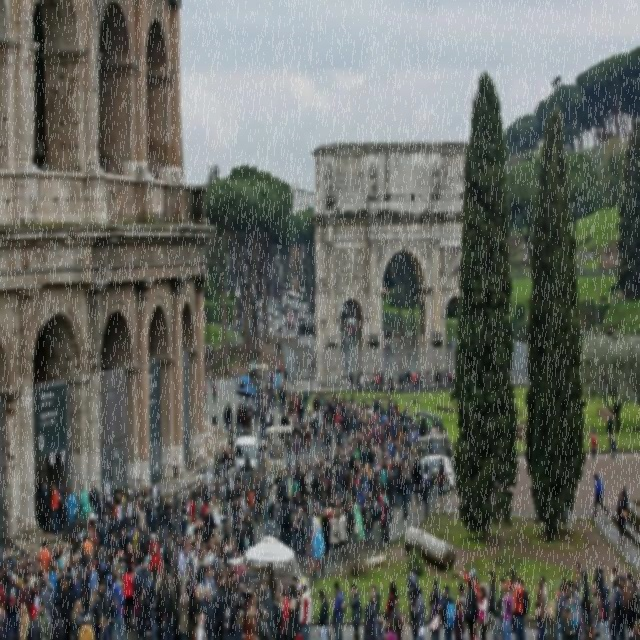pessoa: (312, 391, 451, 508), (240, 289, 316, 356), (339, 315, 412, 371), (238, 354, 282, 424), (95, 484, 155, 520), (52, 538, 110, 574), (460, 567, 480, 639), (106, 572, 126, 639), (160, 574, 178, 639), (329, 578, 348, 639), (198, 517, 223, 562), (410, 367, 455, 392), (512, 574, 528, 639), (611, 578, 628, 639), (132, 582, 150, 638), (122, 562, 136, 632), (196, 585, 214, 639), (428, 575, 443, 639), (212, 579, 228, 639), (606, 564, 620, 632), (8, 570, 22, 638), (348, 580, 364, 639), (39, 579, 54, 639), (590, 471, 608, 521), (132, 562, 146, 626), (362, 590, 380, 639), (613, 572, 626, 639), (316, 585, 332, 639), (76, 481, 92, 535), (475, 583, 490, 639), (299, 583, 314, 639), (176, 582, 191, 638), (441, 584, 456, 639), (286, 584, 301, 639), (295, 504, 308, 566), (270, 589, 286, 639), (516, 578, 529, 639), (371, 484, 383, 550), (590, 582, 604, 638), (184, 539, 200, 588), (580, 568, 591, 639), (571, 580, 584, 639), (614, 488, 628, 542), (592, 558, 607, 608), (466, 577, 478, 639), (352, 500, 365, 557), (406, 564, 418, 625), (555, 582, 568, 638), (260, 576, 274, 628), (534, 579, 546, 639), (230, 548, 248, 588), (48, 478, 60, 538), (320, 506, 332, 566), (331, 584, 344, 639), (136, 526, 151, 573), (486, 569, 497, 633), (16, 576, 32, 620), (236, 582, 249, 636), (34, 600, 52, 639), (323, 155, 337, 205), (411, 584, 426, 630), (223, 593, 238, 639), (337, 504, 348, 566), (148, 570, 158, 638), (628, 576, 640, 632), (54, 478, 66, 534), (282, 495, 294, 551), (384, 468, 396, 524), (500, 584, 512, 639), (90, 584, 102, 639), (412, 454, 424, 508), (366, 162, 381, 204), (280, 586, 292, 638), (176, 570, 186, 632), (39, 478, 50, 534), (361, 498, 372, 554), (572, 559, 586, 603), (420, 471, 433, 518), (185, 578, 195, 639), (434, 454, 446, 504), (330, 507, 340, 566), (560, 603, 576, 639), (50, 603, 66, 639), (218, 507, 231, 551), (66, 484, 79, 528), (381, 491, 391, 548), (235, 514, 249, 554), (290, 504, 300, 560), (99, 576, 111, 622), (602, 584, 612, 639), (170, 488, 181, 538), (18, 600, 32, 639), (458, 582, 468, 636), (170, 538, 179, 598), (76, 611, 95, 639), (177, 540, 189, 584), (162, 532, 174, 576), (297, 491, 310, 531), (390, 599, 403, 639), (286, 384, 302, 416), (590, 582, 602, 624), (192, 586, 204, 628), (210, 480, 222, 522), (245, 602, 259, 638), (172, 572, 182, 622), (88, 559, 98, 609), (256, 470, 266, 520), (432, 155, 442, 205), (584, 598, 596, 639), (428, 590, 438, 639), (309, 500, 322, 537), (454, 596, 466, 636), (38, 538, 52, 572), (200, 563, 213, 599), (203, 505, 216, 541), (562, 593, 577, 624), (304, 494, 314, 540), (284, 431, 294, 476), (345, 501, 355, 546), (372, 611, 388, 639), (232, 606, 246, 638), (156, 494, 166, 538), (284, 468, 294, 512), (48, 563, 58, 607), (258, 608, 272, 639), (82, 562, 91, 610), (244, 511, 256, 547), (604, 412, 614, 455), (400, 468, 408, 521), (262, 495, 272, 537), (279, 468, 289, 510), (300, 501, 310, 543), (310, 410, 320, 452), (220, 444, 231, 482), (546, 598, 556, 639), (540, 573, 550, 614), (324, 418, 334, 459), (252, 475, 260, 525), (304, 462, 314, 502), (2, 546, 16, 574), (117, 527, 130, 557), (554, 576, 570, 600), (384, 615, 400, 639), (150, 544, 162, 576), (146, 504, 158, 536), (234, 476, 244, 514), (247, 484, 256, 526), (71, 569, 82, 603), (227, 570, 250, 586), (196, 481, 212, 504), (197, 611, 210, 639), (192, 516, 205, 544), (82, 530, 95, 558), (28, 566, 42, 592), (496, 574, 506, 610), (388, 580, 398, 616), (370, 583, 380, 619), (178, 507, 190, 537), (88, 517, 100, 547), (0, 602, 10, 638), (278, 497, 286, 541), (124, 542, 134, 577), (298, 467, 308, 502), (589, 427, 599, 462), (216, 554, 228, 583), (167, 502, 176, 540), (224, 579, 235, 610), (212, 478, 222, 512), (78, 586, 88, 620), (376, 489, 384, 531), (399, 609, 410, 639), (24, 621, 42, 639), (210, 566, 217, 612), (509, 566, 519, 598), (111, 548, 121, 580), (288, 574, 300, 600), (22, 556, 34, 582), (109, 530, 120, 558), (89, 481, 100, 509), (37, 566, 48, 594), (187, 513, 196, 547), (276, 468, 284, 506), (194, 488, 204, 518), (130, 524, 140, 554), (620, 482, 630, 512), (304, 422, 312, 459), (0, 548, 6, 597), (190, 490, 198, 526), (148, 530, 160, 554), (98, 615, 110, 639), (318, 422, 326, 458), (246, 588, 259, 610), (183, 562, 193, 590), (136, 502, 146, 530), (30, 579, 40, 607), (0, 573, 7, 613), (294, 434, 302, 469), (306, 414, 314, 449), (0, 557, 11, 582), (206, 564, 213, 603), (160, 501, 167, 540), (228, 444, 236, 478), (296, 398, 304, 432), (118, 508, 129, 532), (214, 497, 223, 526), (207, 492, 217, 518), (412, 622, 428, 638), (564, 578, 576, 599), (218, 536, 228, 560), (140, 559, 150, 583), (30, 592, 38, 622), (280, 383, 288, 413), (584, 621, 597, 639), (149, 562, 160, 583), (226, 399, 233, 432), (270, 501, 280, 524), (238, 488, 246, 516), (270, 476, 278, 504), (258, 407, 265, 439), (15, 560, 25, 582), (112, 562, 121, 586), (292, 421, 300, 448), (76, 598, 86, 619), (34, 558, 44, 579), (136, 528, 144, 554), (248, 465, 256, 491), (609, 433, 617, 459), (336, 422, 342, 456), (196, 569, 206, 589), (61, 576, 72, 594), (298, 423, 304, 456), (308, 490, 315, 518), (283, 412, 290, 440), (172, 532, 186, 546), (230, 544, 242, 560), (80, 569, 90, 588), (274, 494, 281, 520), (619, 574, 628, 594), (184, 532, 193, 552), (280, 412, 286, 442), (277, 384, 283, 414), (234, 406, 240, 436), (220, 572, 228, 594), (292, 476, 300, 498), (378, 370, 386, 392), (63, 488, 69, 516), (235, 504, 242, 528), (294, 486, 302, 507), (282, 364, 289, 388), (244, 451, 251, 474), (359, 370, 366, 393), (185, 484, 193, 504), (288, 394, 294, 420), (253, 404, 259, 429), (406, 367, 412, 392), (296, 459, 303, 480), (236, 408, 241, 437), (99, 516, 108, 532), (304, 388, 310, 412), (238, 378, 244, 402), (434, 366, 440, 390), (32, 556, 39, 576), (323, 472, 330, 492), (223, 404, 228, 432), (355, 372, 362, 392), (206, 367, 212, 390), (172, 456, 178, 478), (495, 602, 503, 618), (309, 458, 316, 476), (350, 371, 356, 392), (365, 371, 371, 392), (398, 371, 404, 392), (505, 579, 512, 597), (290, 414, 299, 428), (626, 572, 632, 592), (248, 412, 253, 436), (212, 380, 217, 404), (245, 412, 250, 435), (388, 368, 393, 390), (16, 556, 22, 574), (19, 547, 26, 562), (234, 371, 239, 392), (402, 368, 406, 394), (370, 372, 375, 392), (373, 372, 378, 392), (154, 576, 161, 590), (10, 562, 18, 574), (302, 390, 306, 414), (296, 589, 302, 604), (266, 478, 275, 488), (451, 338, 456, 356), (376, 372, 380, 393), (348, 370, 354, 383), (426, 367, 431, 382), (30, 550, 34, 568), (266, 409, 270, 427), (26, 560, 32, 570), (562, 576, 568, 586)
